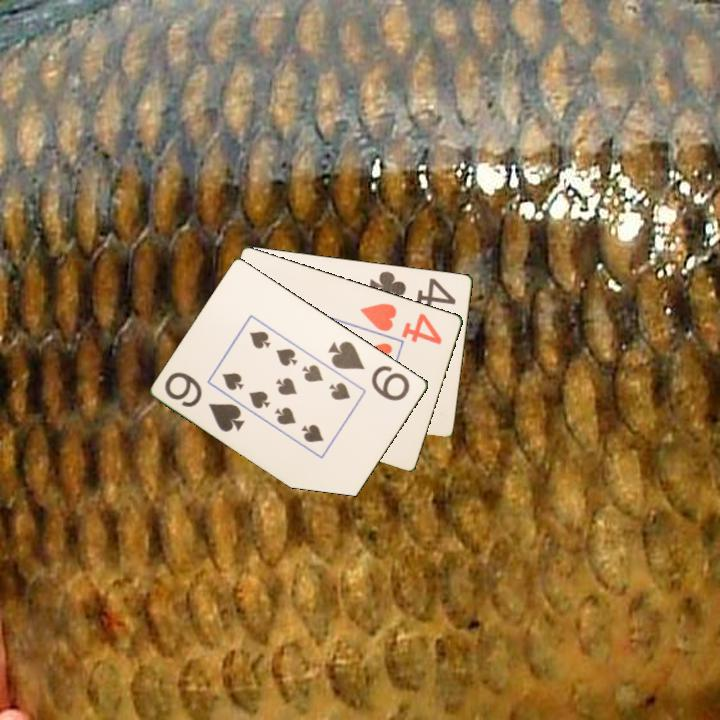4c: (366, 267, 459, 310)
4h: (357, 299, 445, 347)
9s: (324, 337, 413, 404), (161, 368, 248, 435)
